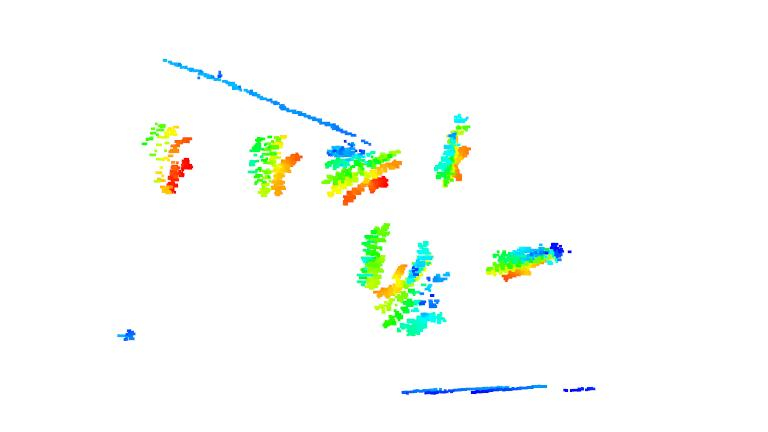chickpea: (370, 240, 453, 339), (326, 141, 400, 205), (138, 117, 195, 195), (249, 129, 305, 200), (483, 236, 565, 282), (431, 116, 474, 189), (351, 220, 397, 288)
